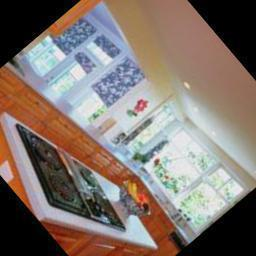Electrodomestico: (0, 109, 135, 256), (134, 234, 200, 256)
Lavaplatos: (0, 20, 48, 82)
